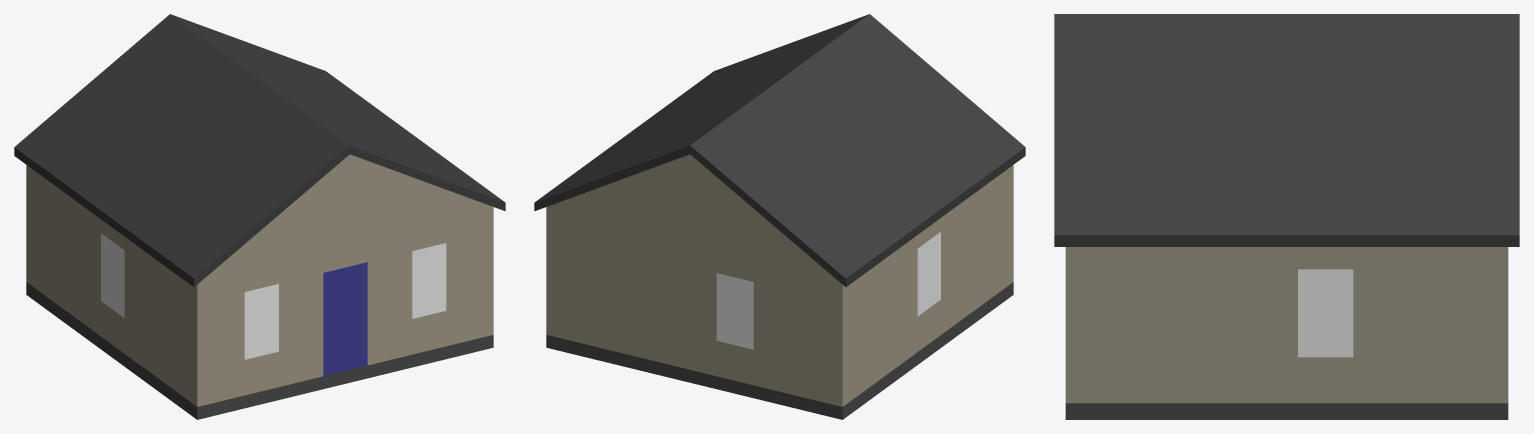
Rendered from House_Collision.glb.
The picture shows the model from 3 angles, left to right: view 1: azimuth 30°, elevation 25°; view 2: azimuth 150°, elevation 25°; view 3: azimuth 270°, elevation 25°; orthographic projection. The views are drawn at different scales.
Parts seen in each view (by area): view 1: House Simple -col, Wall Ext S -col, Roof -col, Floor -col, Wall Ext W -col; view 2: House Simple -col, Roof -col, Floor -col, Wall Ext N -col, Wall Ext W -col; view 3: House Simple -col, Roof -col, Floor -col, Wall Ext E -col.
Part boxes in pixels (box(x1,y1,x2,y2)): House Simple -col: box(14, 14, 490, 406); Wall Ext S -col: box(197, 206, 493, 406); Roof -col: box(14, 14, 505, 286); Floor -col: box(26, 282, 493, 419); Wall Ext W -col: box(101, 235, 124, 316); House Simple -col: box(534, 14, 1013, 406); Roof -col: box(535, 14, 1025, 273); Floor -col: box(546, 282, 1013, 419); Wall Ext N -col: box(716, 273, 753, 348); Wall Ext W -col: box(917, 233, 940, 315); House Simple -col: box(1054, 14, 1519, 403); Roof -col: box(1054, 14, 1519, 246); Floor -col: box(1065, 403, 1508, 419); Wall Ext E -col: box(1298, 269, 1353, 357).
Bounding box in the file's own units: 6.31 × 4.67 × 6.3.
